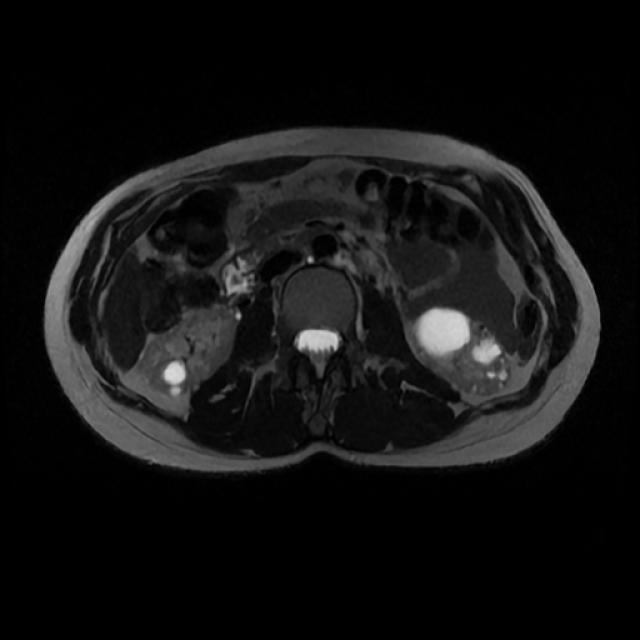sag: (135, 304, 245, 398)
sol: (409, 305, 510, 392)
